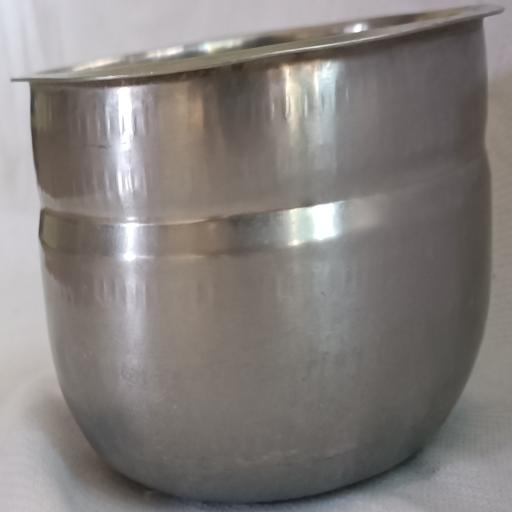vessel: (25, 6, 500, 501)
